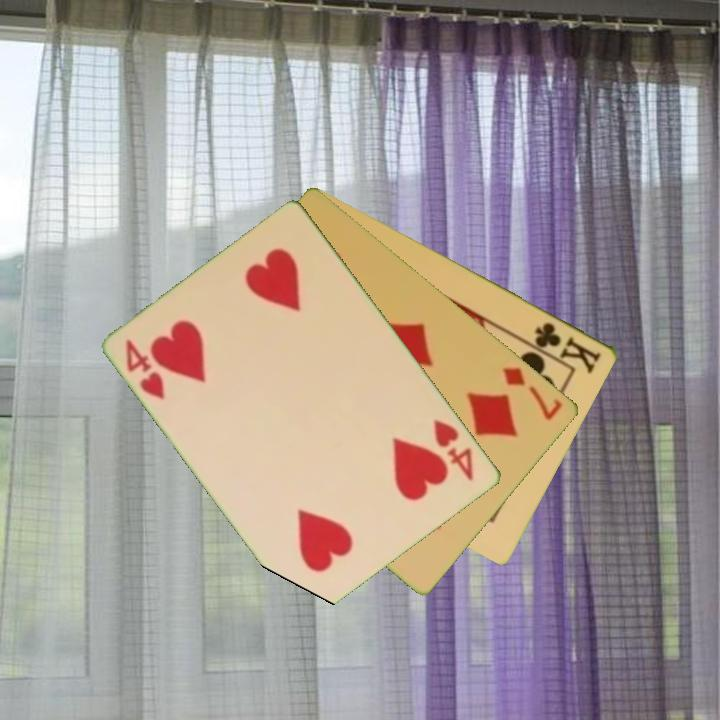4h: (429, 416, 477, 484), (122, 336, 169, 403)
7d: (499, 363, 566, 423)
Kc: (531, 318, 605, 375)
